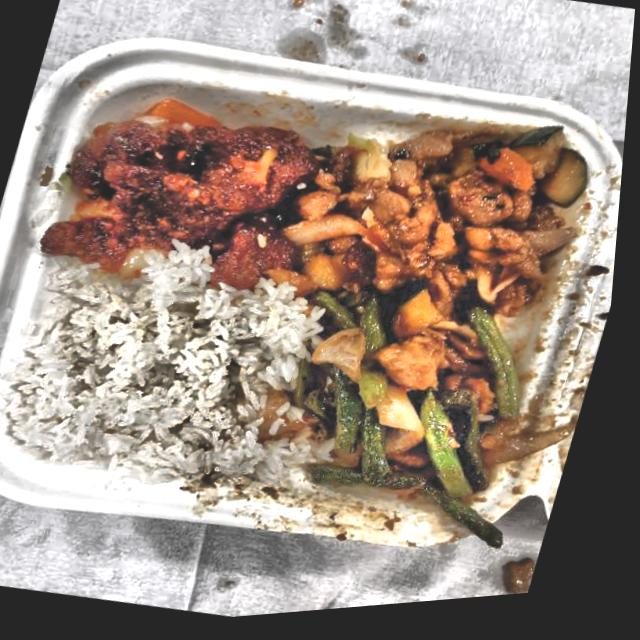Food: (278, 84, 627, 370), (0, 242, 322, 521), (36, 61, 344, 313), (273, 283, 570, 542)
